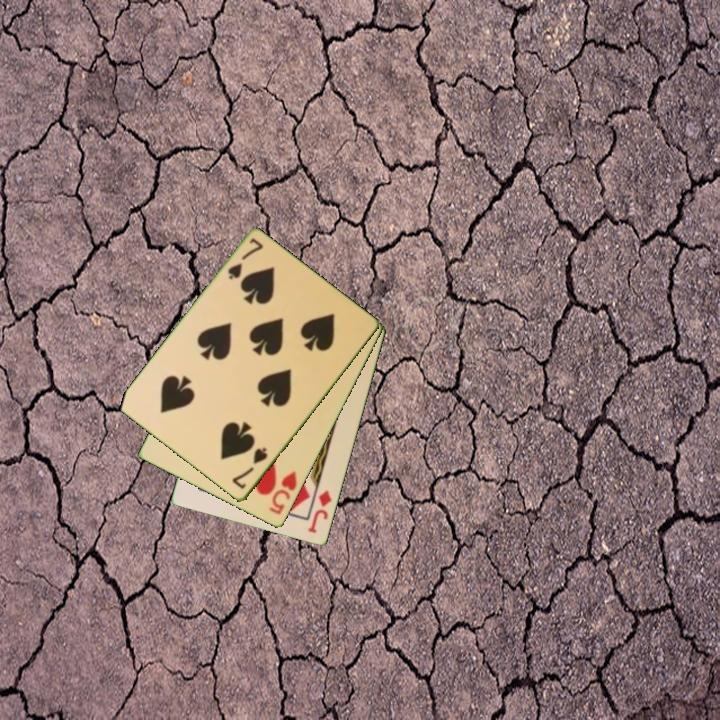5h: (266, 468, 300, 518)
7s: (229, 444, 271, 492), (224, 235, 266, 283)
Jd: (304, 487, 335, 536)
